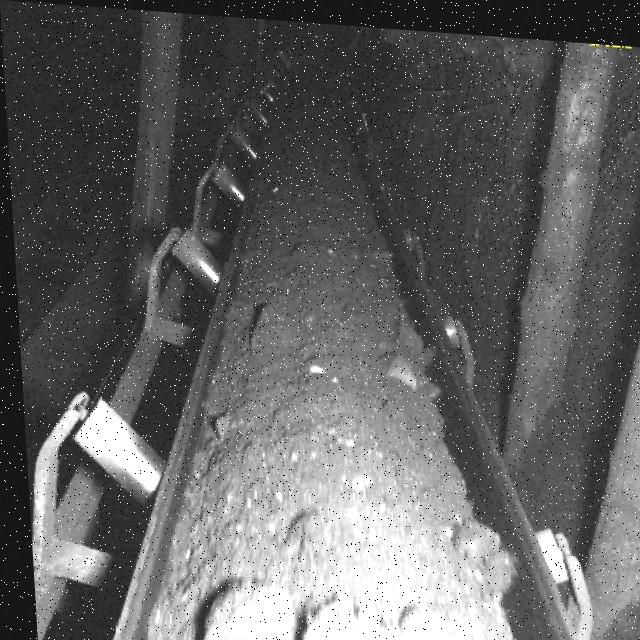large_sized_coal: (193, 573, 284, 640)
